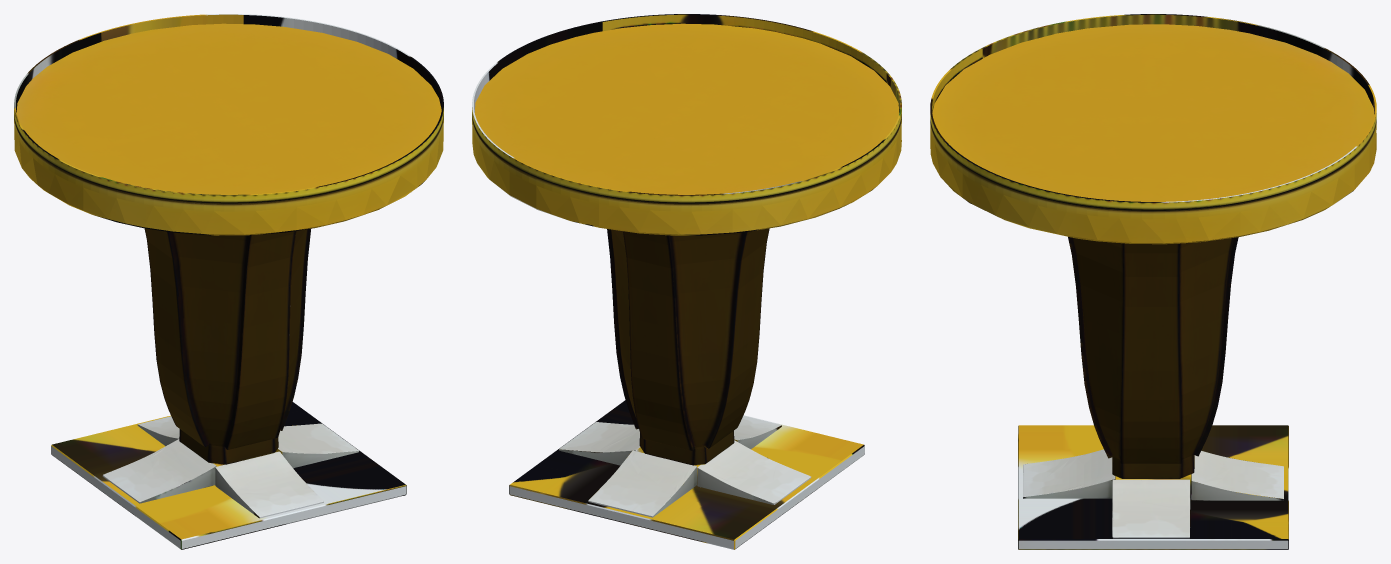
The model's file is edited_mesh.glb.
The picture shows the model from 3 angles, left to right: view 1: azimuth 30°, elevation 25°; view 2: azimuth 150°, elevation 25°; view 3: azimuth 270°, elevation 25°; orthographic projection. The views are drawn at different scales.
Visible parts, largest first — view 1: solid_001_wire; view 2: solid_001_wire; view 3: solid_001_wire.
Part boxes in pixels (box(x1,y1,x2,y2)): solid_001_wire: box(14, 14, 443, 549); solid_001_wire: box(472, 14, 901, 549); solid_001_wire: box(930, 14, 1376, 549).
Bounding box in the file's own units: 1.38 × 1.31 × 1.38.
Materials: 1 (1 with a texture image).
